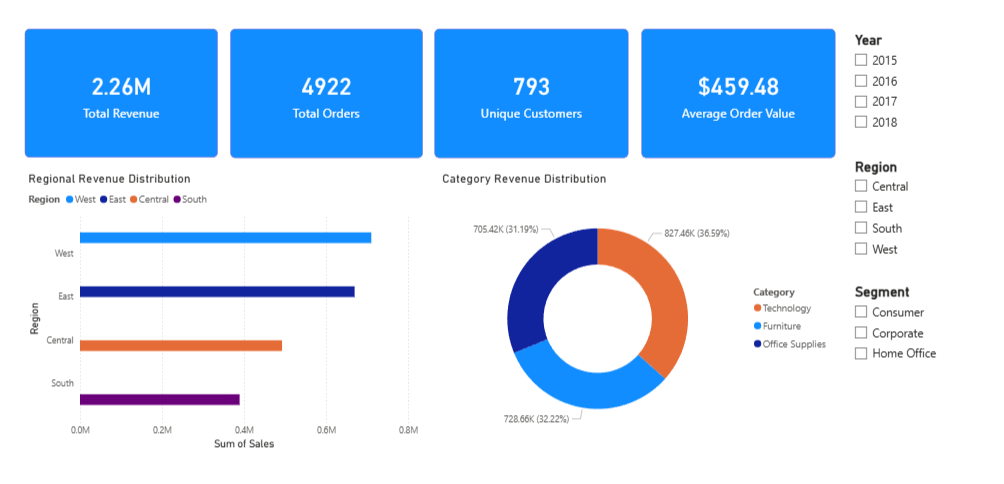

What the dashboard file says about the page in this screenshot:
{"tool":"powerbi","page":{"name":"Executive Summary","canvas":[1500,800],"ordinal":0},"visuals":[{"type":"card","fields":{"Values":["cleaned_train.Total Sales"]},"box":[40.1,50.6,268.7,179.7],"z":0},{"type":"card","fields":{"Values":["cleaned_train.Total Orders"]},"box":[325,50,267.5,180],"z":1000},{"type":"card","fields":{"Values":["cleaned_train.Total Customers"]},"box":[610,50,270,180],"z":2000},{"type":"card","fields":{"Values":["cleaned_train.Average Order Value"]},"box":[897.5,50,270,180],"z":3000},{"type":"clusteredBarChart","title":"Regional Revenue Distribution","fields":{"Category":["cleaned_train.Region"],"Y":["Sum(cleaned_train.Sales)"],"Series":["cleaned_train.Region"]},"box":[40,247.5,552.5,392.5],"z":4000},{"type":"donutChart","title":"Category Revenue Distribution","fields":{"Category":["cleaned_train.Category"],"Y":["Sum(cleaned_train.Sales)"]},"box":[615,247.5,552.5,392.5],"z":5000},{"type":"slicer","fields":{"Values":["cleaned_train.Year"]},"box":[1182.6,50,232.5,155],"z":6000},{"type":"slicer","fields":{"Values":["cleaned_train.Region"]},"box":[1182.5,225,232.5,155],"z":7000},{"type":"slicer","fields":{"Values":["cleaned_train.Segment"]},"box":[1182.5,400,232.5,155],"z":8000}]}

Visuals, with their boxes on the page's 1500x800 design canvas (x1, y1, x2, y2). These are canvas units, not pixel positions in the 1004x484 screenshot, which may show the page scaled, cropped or inside an application window:
card - cleaned_train.Total Sales: (40,51,309,230)
card - cleaned_train.Total Orders: (325,50,592,230)
card - cleaned_train.Total Customers: (610,50,880,230)
card - cleaned_train.Average Order Value: (898,50,1168,230)
"Regional Revenue Distribution" clusteredBarChart: (40,248,592,640)
"Category Revenue Distribution" donutChart: (615,248,1168,640)
slicer - cleaned_train.Year: (1183,50,1415,205)
slicer - cleaned_train.Region: (1182,225,1415,380)
slicer - cleaned_train.Segment: (1182,400,1415,555)
